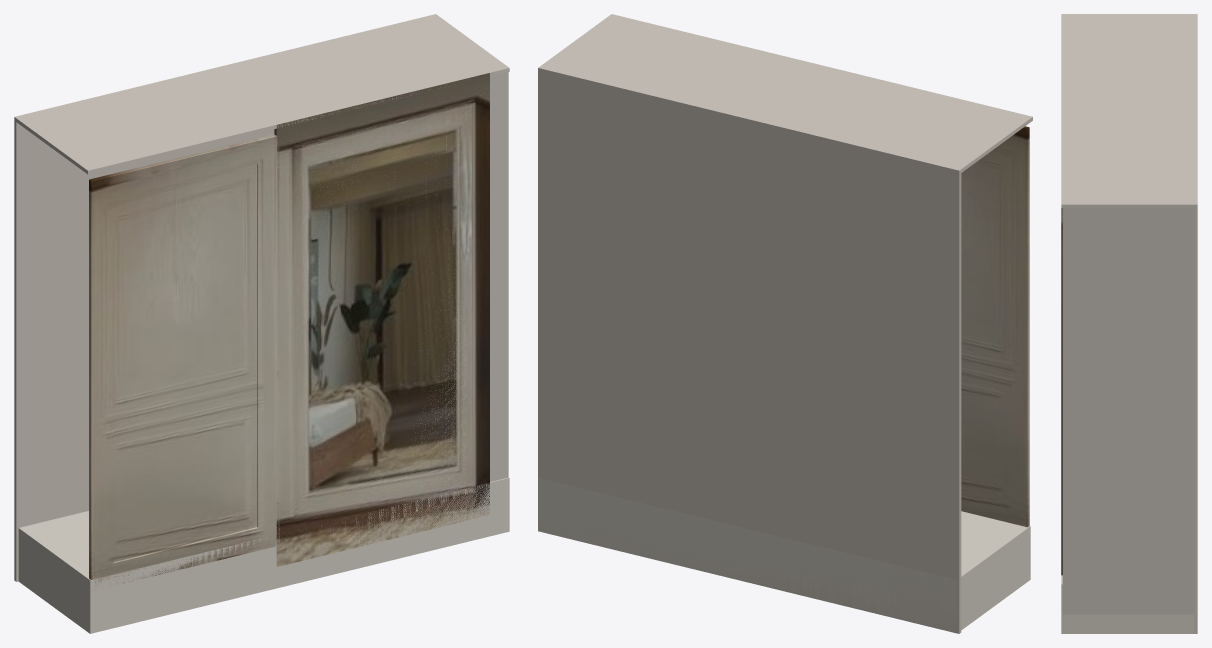
The model's file is mirror_wardrobe.before.glb.
3 views of the same model, side by side, from view 1: azimuth 30°, elevation 25°; view 2: azimuth 150°, elevation 25°; view 3: azimuth 270°, elevation 25° (orthographic). The views are drawn at different scales.
Parts seen in each view (by area): view 1: Right mirror door frame, Left panelled door, Top Panel, Back Panel, Continuous bottom plinth, Right side panel; view 2: Back Panel, Top Panel, Continuous bottom plinth, Left panelled door; view 3: Right side panel, Top Panel, Continuous bottom plinth, Back Panel, Right mirror door frame.
Part boxes in pixels (bbox=[...]): Right mirror door frame: bbox=[274, 73, 489, 566]; Left panelled door: bbox=[89, 134, 279, 586]; Top Panel: bbox=[14, 14, 509, 174]; Back Panel: bbox=[14, 14, 437, 581]; Continuous bottom plinth: bbox=[18, 477, 509, 633]; Right side panel: bbox=[490, 72, 508, 481]; Back Panel: bbox=[538, 66, 961, 633]; Top Panel: bbox=[538, 14, 1032, 174]; Continuous bottom plinth: bbox=[538, 477, 1030, 633]; Left panelled door: bbox=[961, 126, 1029, 527]; Right side panel: bbox=[1062, 208, 1193, 614]; Top Panel: bbox=[1061, 14, 1197, 207]; Continuous bottom plinth: bbox=[1061, 575, 1193, 633]; Back Panel: bbox=[1193, 14, 1197, 633]; Right mirror door frame: bbox=[1061, 208, 1062, 575].
Bounding box in the file's own units: 2.05 × 2.15 × 0.62.
Materials: 7 (2 with a texture image).
